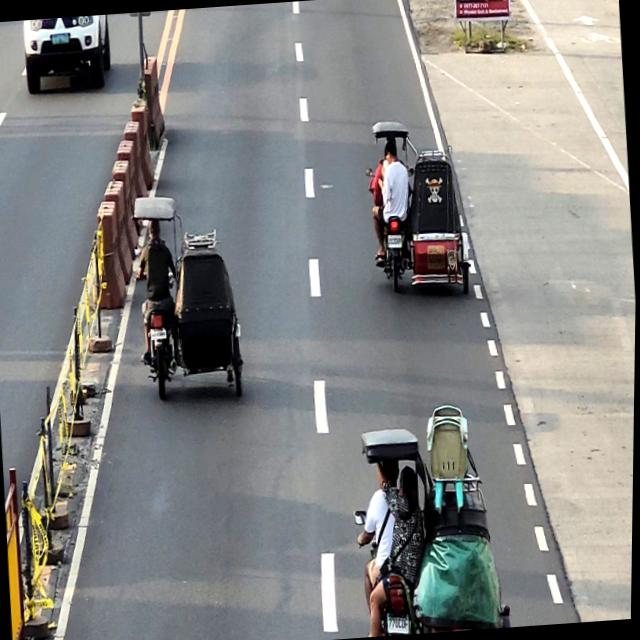Car: (21, 14, 113, 93)
License-Plate: (389, 614, 411, 634), (51, 32, 69, 44), (151, 328, 168, 340), (388, 234, 402, 248)
Tricycle: (349, 420, 515, 638), (129, 190, 250, 406), (361, 116, 475, 302)
